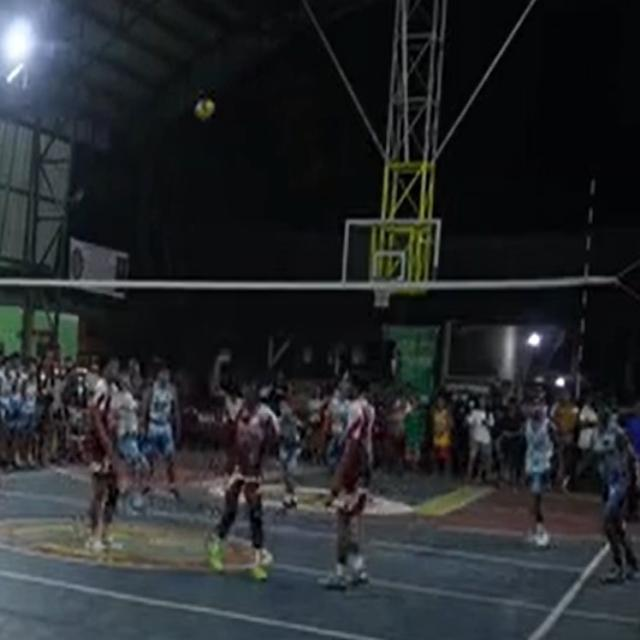volleyball: (195, 100, 214, 118)
